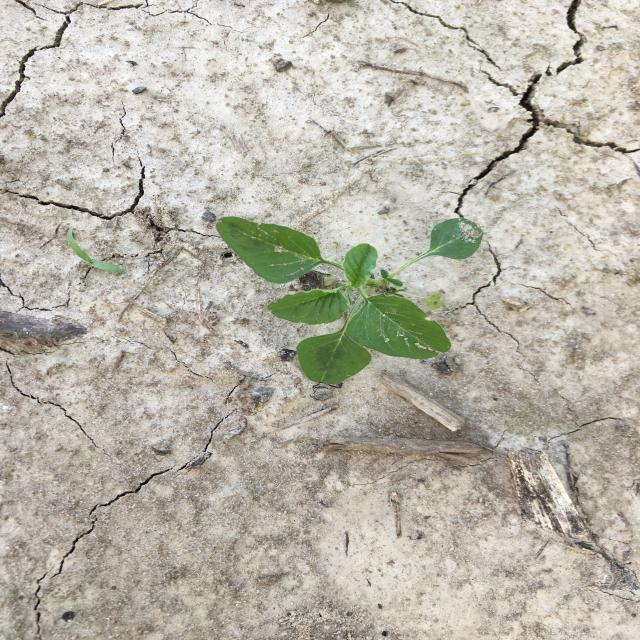PalmerAmaranth: (213, 216, 485, 387)
